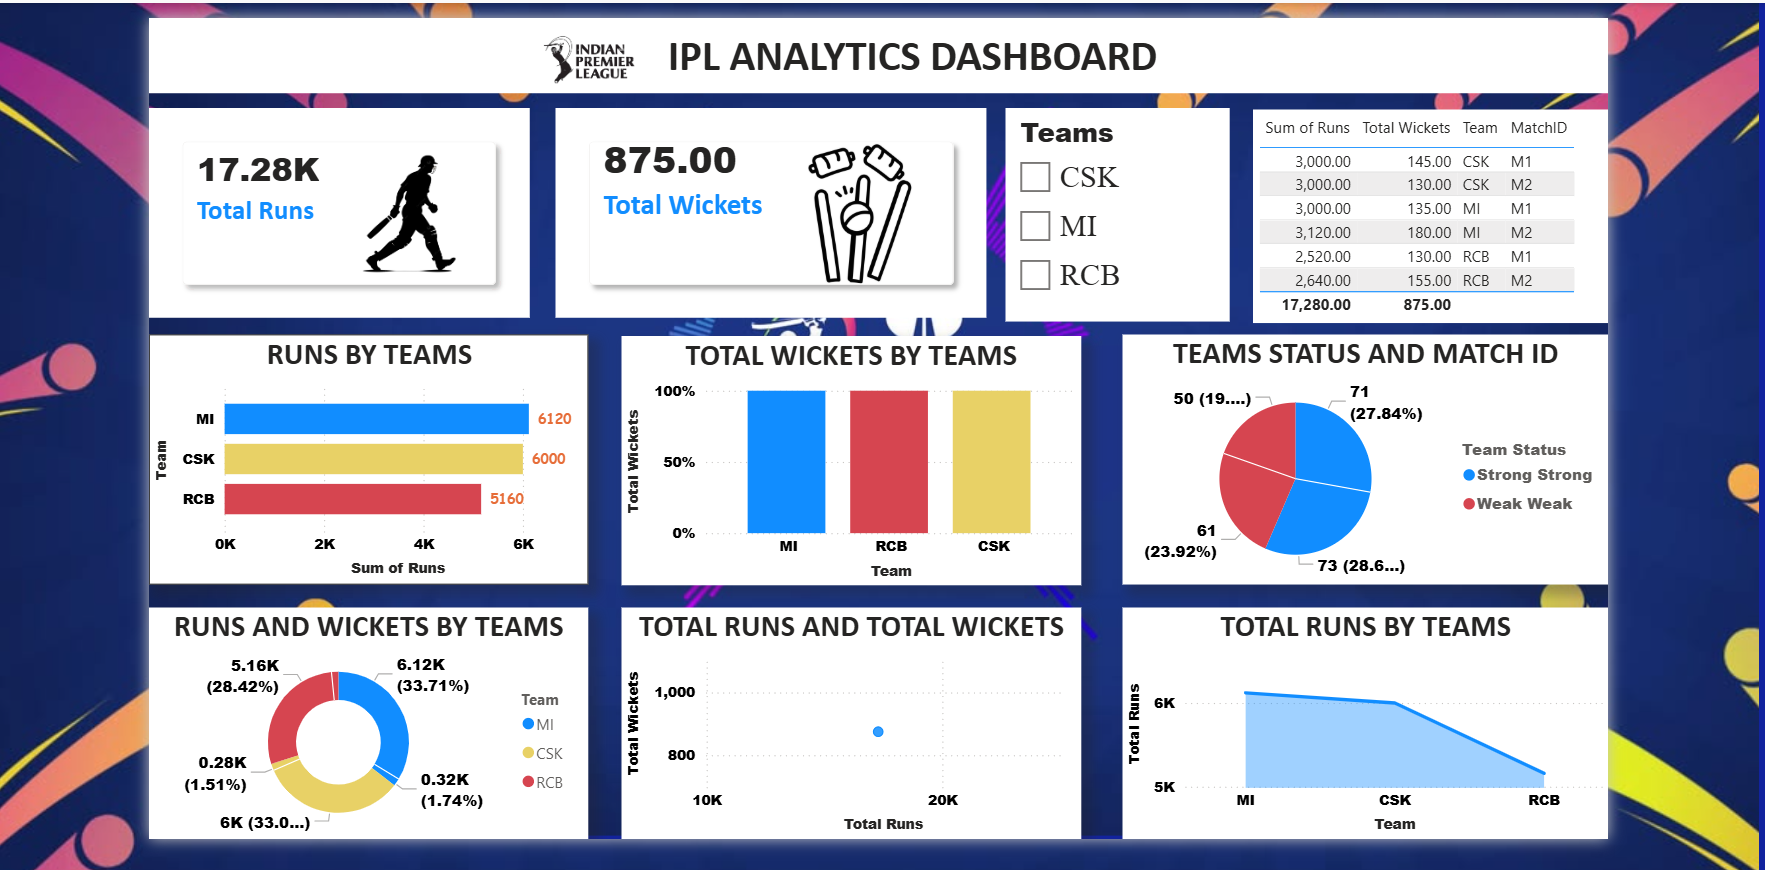

This screenshot's page, from the dashboard's own definition file:
{"tool":"powerbi","page":{"name":"Page 1","canvas":[1280,720],"ordinal":0},"visuals":[{"type":"textbox","box":[0,0,1280.4,65.9],"z":0},{"type":"cardVisual","fields":{"Data":["Dirty_IPL_Analytics_700.Total Runs"]},"box":[0,78.8,333.9,184.3],"z":1000},{"type":"cardVisual","fields":{"Data":["Dirty_IPL_Analytics_700.Total Wickets"]},"box":[356,78.8,378,184.3],"z":2000},{"type":"clusteredBarChart","title":"RUNS BY TEAMS","fields":{"Category":["Dirty_IPL_Analytics_700.Team"],"Y":["Sum(Dirty_IPL_Analytics_700.Runs)"]},"box":[0,277.2,385.6,219.6],"z":3000},{"type":"hundredPercentStackedColumnChart","title":"TOTAL WICKETS BY TEAMS","fields":{"Category":["Dirty_IPL_Analytics_700.Team"],"Y":["Dirty_IPL_Analytics_700.Total Wickets"]},"box":[414.2,278.8,403.2,218.9],"z":4000},{"type":"pieChart","title":"TEAMS STATUS AND MATCH ID","fields":{"Category":["Dirty_IPL_Analytics_700.Team Status","Dirty_IPL_Analytics_700.Team Status"],"Series":["Dirty_IPL_Analytics_700.MatchID"],"Y":["CountNonNull(Dirty_IPL_Analytics_700.MatchID)"]},"box":[853.6,277.2,426.8,219.6],"z":5000},{"type":"tableEx","fields":{"Values":["Sum(Dirty_IPL_Analytics_700.Runs)","Dirty_IPL_Analytics_700.Total Wickets","Dirty_IPL_Analytics_700.Team","Dirty_IPL_Analytics_700.MatchID"]},"box":[968.7,80.3,311.9,187.4],"z":6000},{"type":"slicer","fields":{"Values":["Dirty_IPL_Analytics_700.Team"]},"box":[751.3,78.8,196.9,187.4],"z":7000},{"type":"donutChart","title":"RUNS AND WICKETS BY TEAMS","fields":{"Category":["Dirty_IPL_Analytics_700.Team"],"Y":["Sum(Dirty_IPL_Analytics_700.Runs)","Dirty_IPL_Analytics_700.Total Wickets"]},"box":[0,517.4,385.6,203.1],"z":8000},{"type":"scatterChart","title":"TOTAL RUNS AND TOTAL WICKETS","fields":{"X":["Dirty_IPL_Analytics_700.Total Runs"],"Y":["Dirty_IPL_Analytics_700.Total Wickets"]},"box":[414.4,517.4,403.5,203.1],"z":9000},{"type":"areaChart","title":"TOTAL RUNS BY TEAMS","fields":{"Category":["Dirty_IPL_Analytics_700.Team"],"Y":["Dirty_IPL_Analytics_700.Total Runs"]},"box":[853.7,516.6,426.8,203.2],"z":10000},{"type":"image","box":[264.4,0,243.4,58.1],"z":11000}]}

Visuals, with their boxes in screenshot pixels (x1, y1, x2, y2):
textbox: x1=138, y1=9, x2=1607, y2=85
cardVisual - Dirty_IPL_Analytics_700.Total Runs: x1=138, y1=100, x2=521, y2=311
cardVisual - Dirty_IPL_Analytics_700.Total Wickets: x1=546, y1=100, x2=980, y2=311
"RUNS BY TEAMS" clusteredBarChart: x1=138, y1=327, x2=580, y2=579
"TOTAL WICKETS BY TEAMS" hundredPercentStackedColumnChart: x1=613, y1=329, x2=1076, y2=580
"TEAMS STATUS AND MATCH ID" pieChart: x1=1118, y1=327, x2=1607, y2=579
tableEx - Sum(Dirty_IPL_Analytics_700.Runs) x Dirty_IPL_Analytics_700.Total Wickets: x1=1250, y1=101, x2=1608, y2=316
slicer - Dirty_IPL_Analytics_700.Team: x1=1000, y1=100, x2=1226, y2=315
"RUNS AND WICKETS BY TEAMS" donutChart: x1=138, y1=603, x2=580, y2=836
"TOTAL RUNS AND TOTAL WICKETS" scatterChart: x1=613, y1=603, x2=1077, y2=836
"TOTAL RUNS BY TEAMS" areaChart: x1=1118, y1=602, x2=1607, y2=835
image: x1=441, y1=9, x2=721, y2=76
